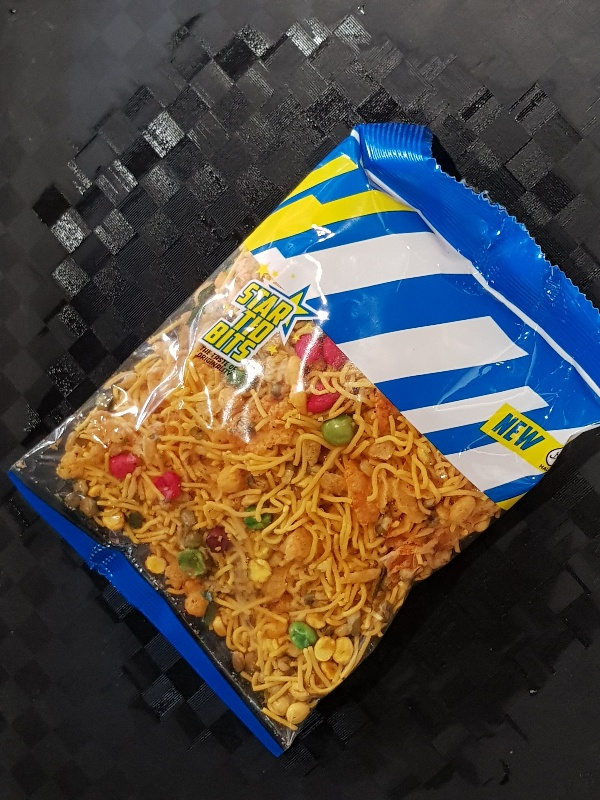Star Tidbits Mixer: (6, 119, 600, 753)
